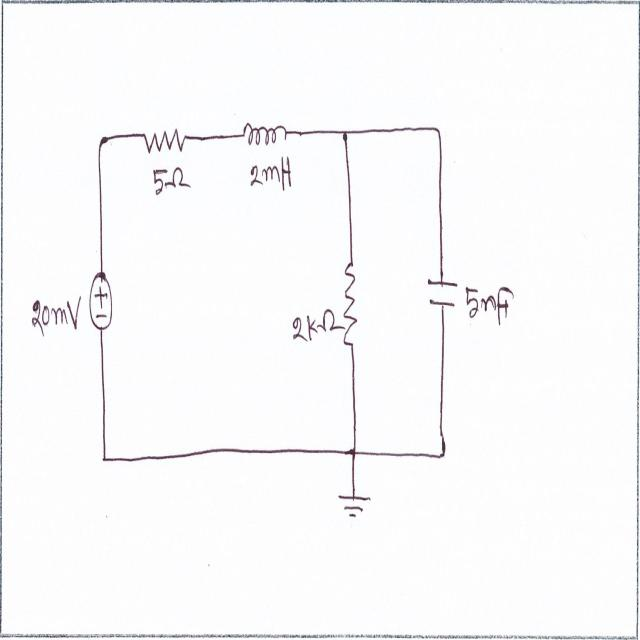capacitor: (425, 264, 460, 320)
ground: (334, 484, 374, 526)
inductor: (241, 112, 293, 154)
resistor: (341, 260, 363, 350), (143, 123, 190, 160)
voltage_source: (87, 268, 116, 332)
